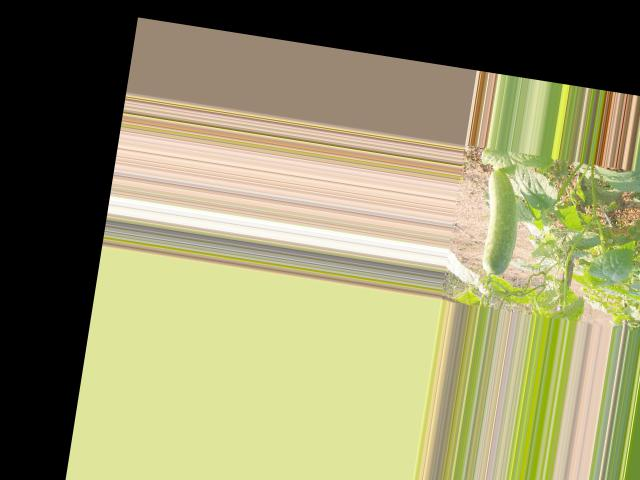cucumber: (474, 168, 525, 276)
